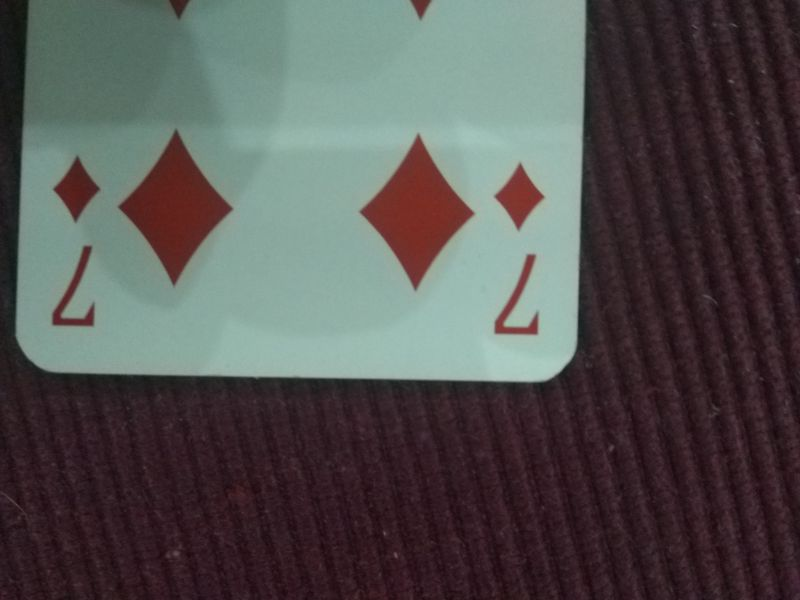7d: (35, 147, 110, 337), (479, 156, 552, 341)
